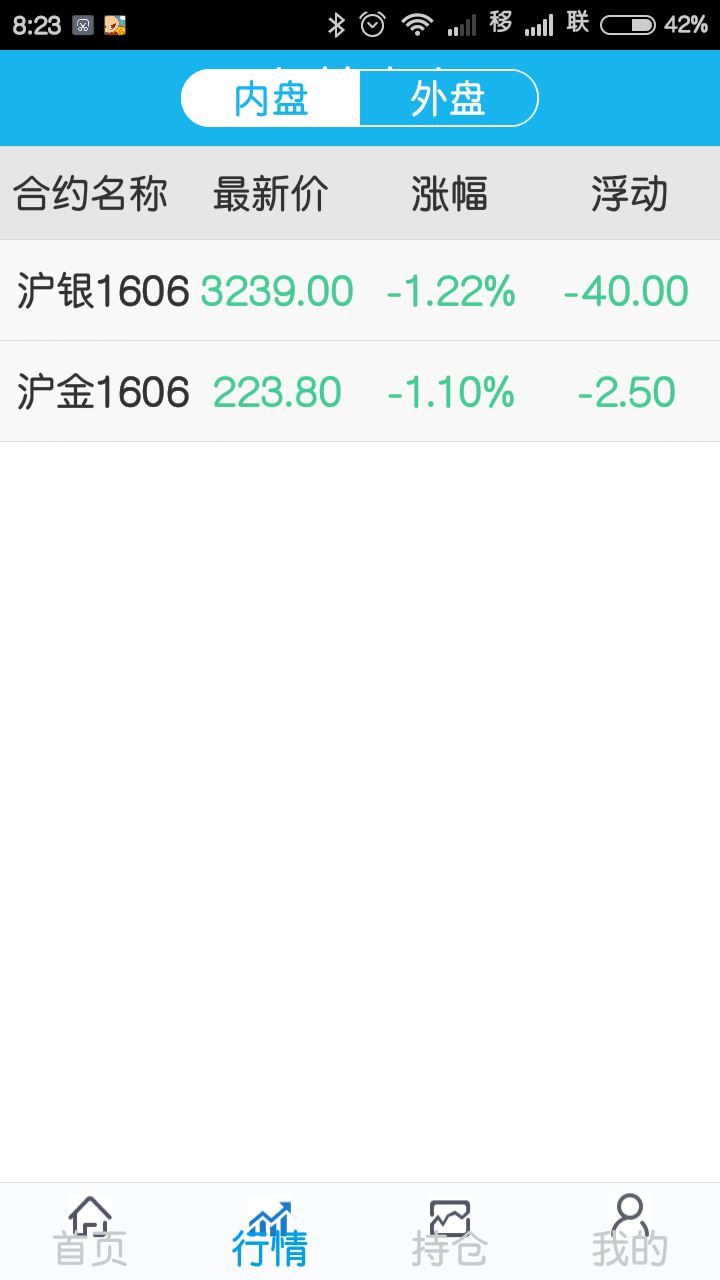nav: (14, 1183, 720, 1276)
textview: (10, 149, 715, 439)
